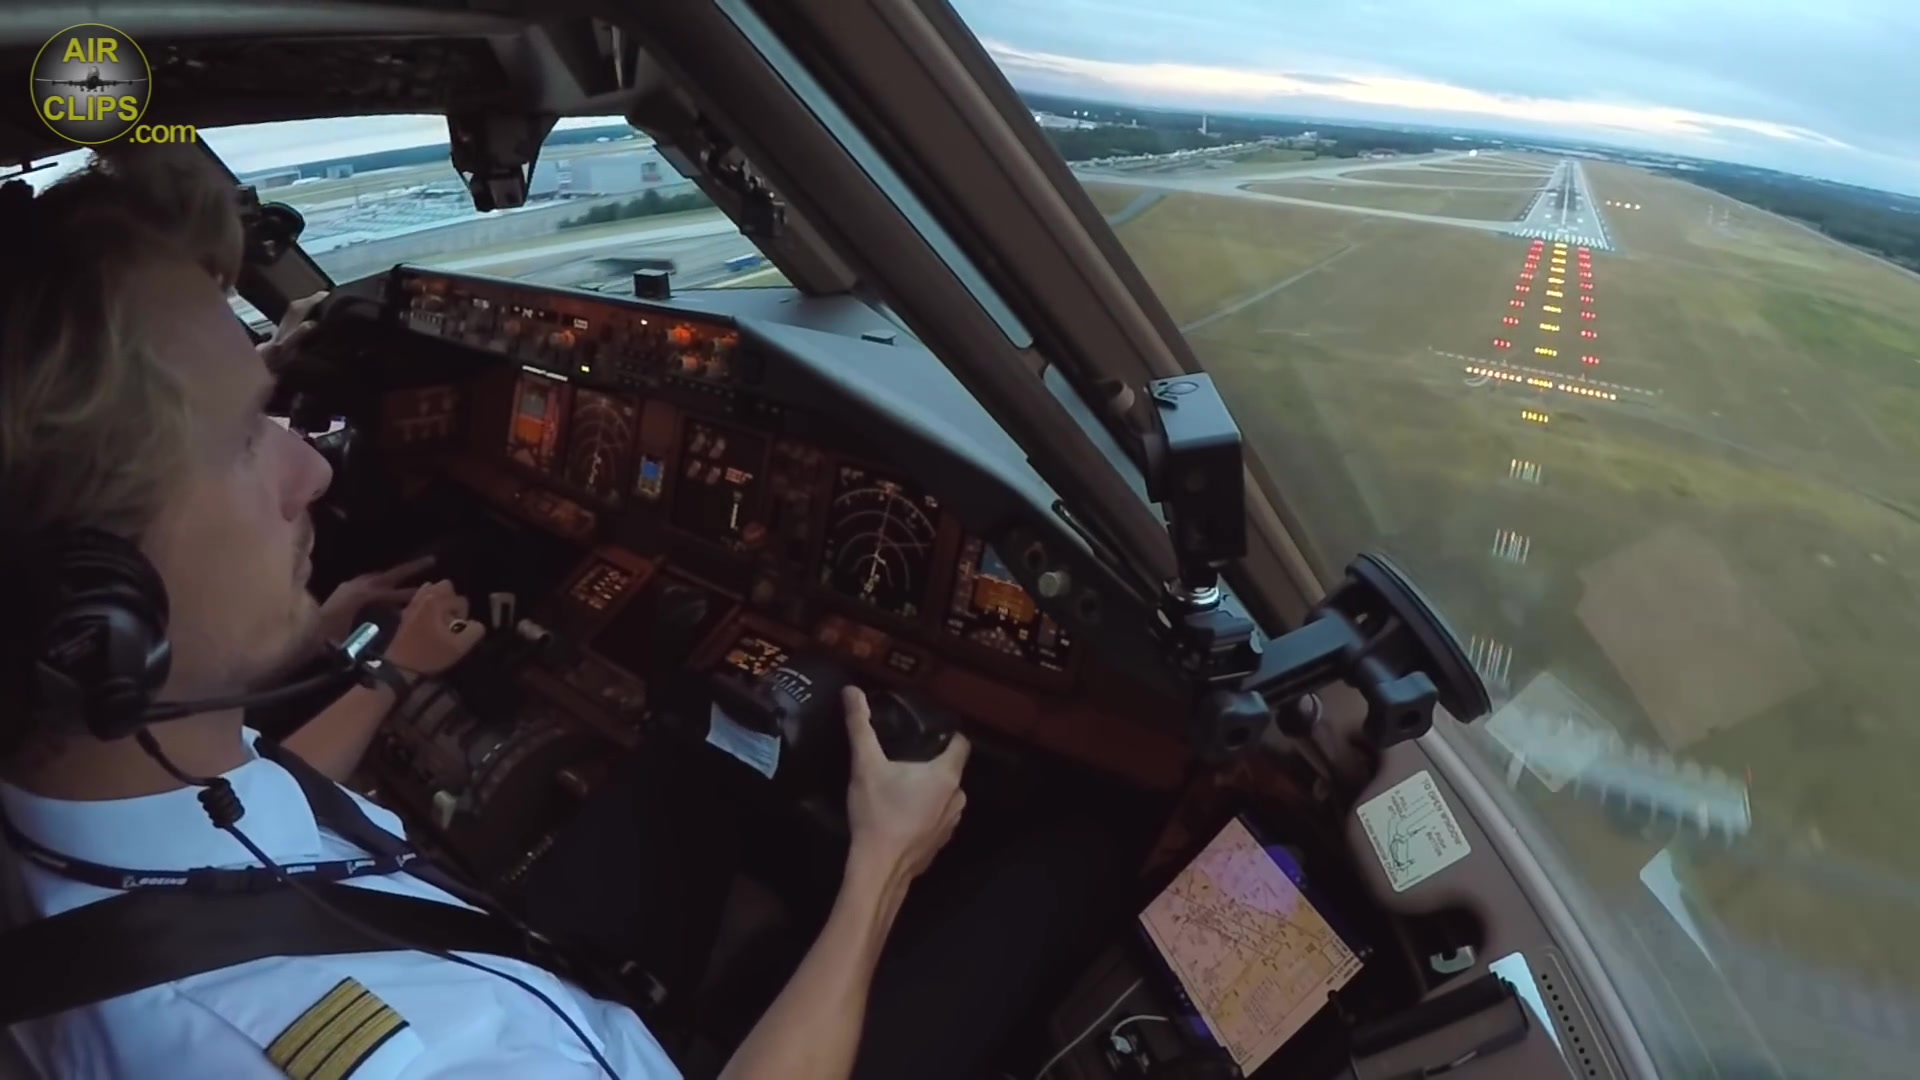runway: (1513, 154, 1607, 252)
